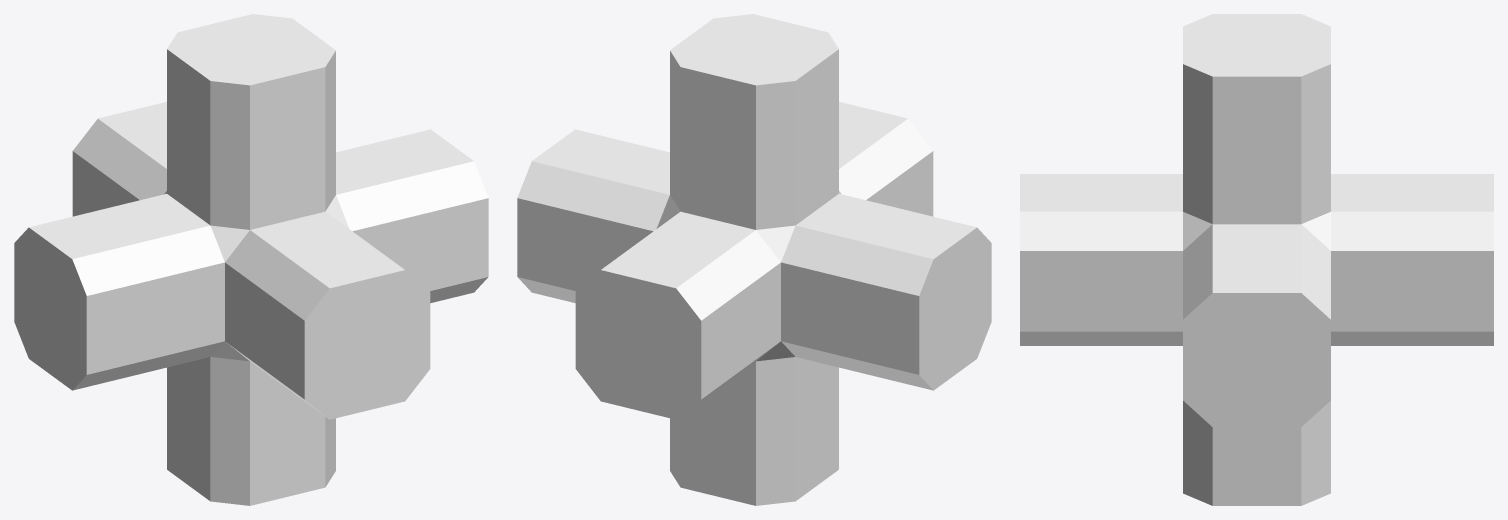
File: red_cable.obj
The picture shows the model from 3 angles, left to right: view 1: azimuth 30°, elevation 25°; view 2: azimuth 150°, elevation 25°; view 3: azimuth 270°, elevation 25°; orthographic projection. The views are drawn at different scales.
Visible parts, largest first — view 1: CX, CY, posY, negZ, negX, CZ, negY, posX, posZ, Core; view 2: CY, posY, negX, posZ, CX, CZ, posX, negY, negZ, Core; view 3: CZ, posY, posX, posZ, negZ, CY, negY, CX, Core.
Boxes of the visible parts, bbox=[...] form: CX: bbox=[14, 130, 488, 389]; CY: bbox=[167, 14, 335, 505]; posY: bbox=[167, 14, 335, 229]; negZ: bbox=[225, 216, 430, 419]; negX: bbox=[14, 204, 224, 390]; CZ: bbox=[72, 102, 430, 419]; negY: bbox=[167, 358, 335, 505]; posX: bbox=[336, 129, 488, 299]; posZ: bbox=[72, 101, 166, 216]; Core: bbox=[164, 191, 349, 361]; CY: bbox=[670, 14, 838, 504]; posY: bbox=[670, 14, 838, 229]; negX: bbox=[781, 204, 991, 390]; posZ: bbox=[575, 225, 780, 419]; CX: bbox=[517, 129, 991, 389]; CZ: bbox=[575, 102, 933, 419]; posX: bbox=[517, 129, 669, 302]; negY: bbox=[670, 357, 838, 505]; negZ: bbox=[839, 101, 933, 216]; Core: bbox=[656, 191, 841, 361]; CZ: bbox=[1020, 174, 1493, 345]; posY: bbox=[1183, 14, 1330, 224]; posX: bbox=[1183, 224, 1330, 427]; posZ: bbox=[1331, 174, 1493, 345]; negZ: bbox=[1020, 174, 1182, 345]; CY: bbox=[1183, 14, 1330, 505]; negY: bbox=[1183, 401, 1330, 505]; CX: bbox=[1183, 241, 1330, 427]; Core: bbox=[1183, 212, 1330, 250].
Size of the model in its own units: 1 by 1 by 1.
